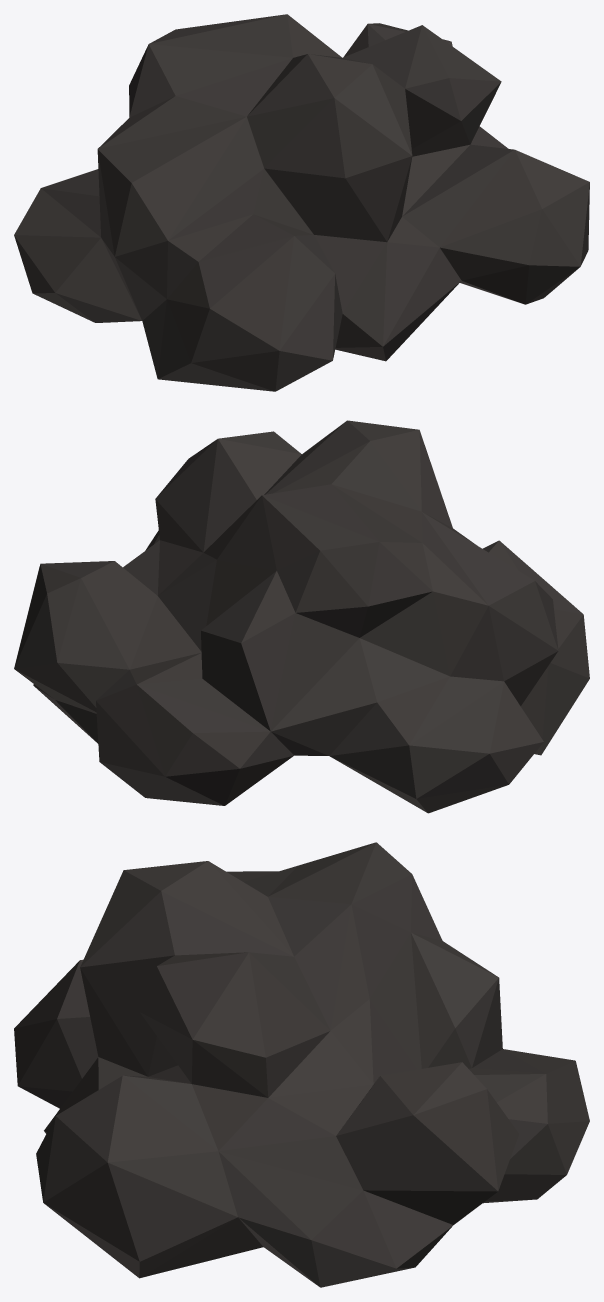
File: Rock_4_LOD_1.fbx
The picture shows the model from 3 angles, top to bottom: view 1: azimuth 30°, elevation 25°; view 2: azimuth 150°, elevation 25°; view 3: azimuth 270°, elevation 25°; orthographic projection. The views are drawn at different scales.
Parts seen in each view (by area): view 1: Group26708; view 2: Group26708; view 3: Group26708.
Boxes of the visible parts, x1,y1,x2,y2 form: Group26708: [14, 14, 589, 391]; Group26708: [14, 420, 589, 813]; Group26708: [14, 842, 589, 1287].
Size of the model in its own units: 4.18 by 2.38 by 3.97.
